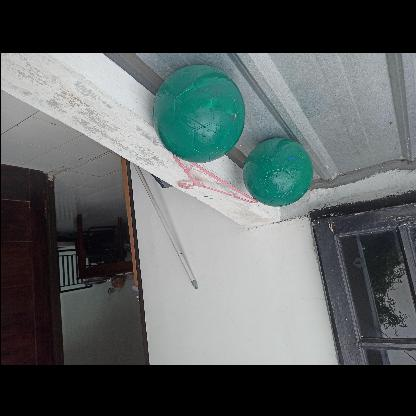green_ball: (149, 64, 247, 162), (244, 139, 314, 208)
